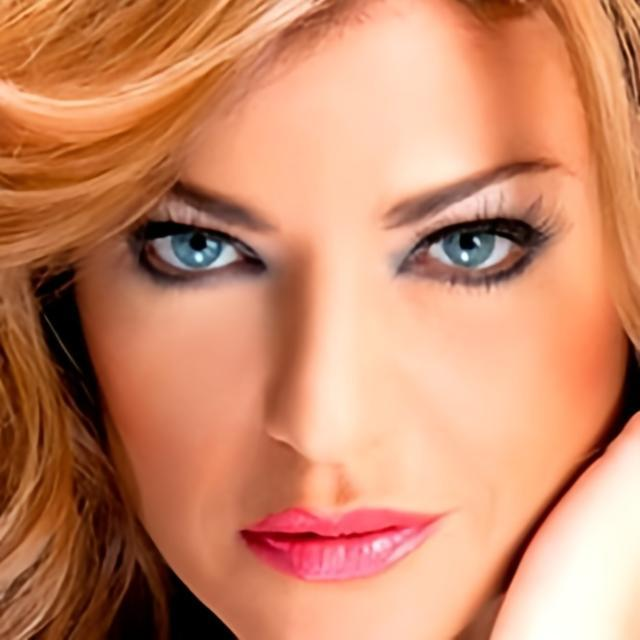content: (73, 0, 632, 640)
